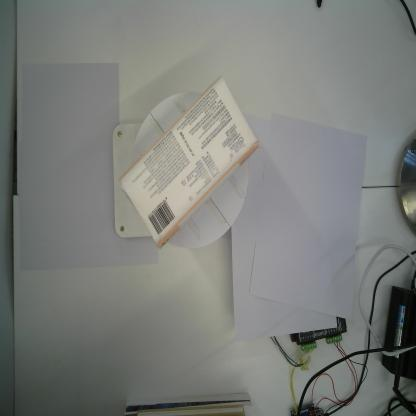Tissue: (118, 74, 260, 250)
